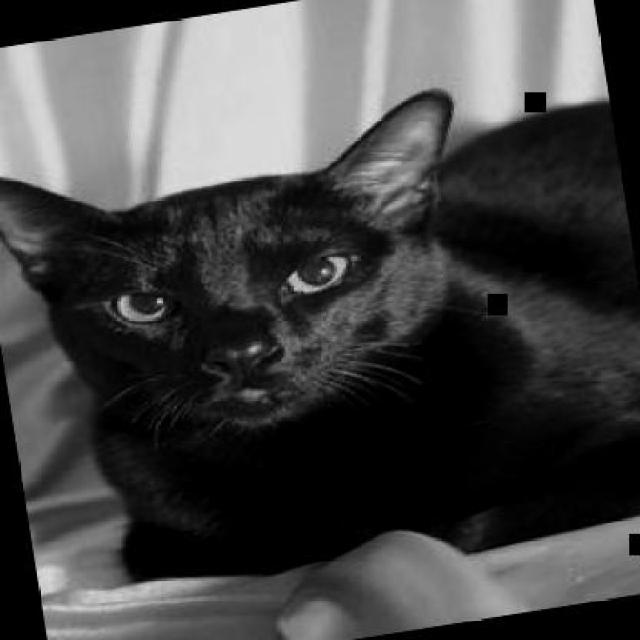cat: (0, 58, 638, 626)
